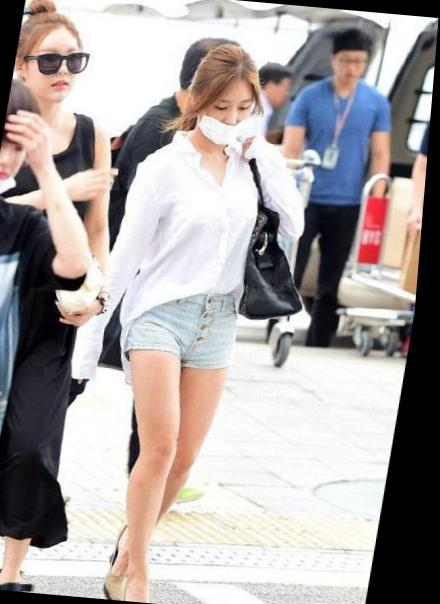NONE: (30, 42, 86, 103), (335, 50, 370, 86)
WRONG: (198, 90, 257, 146), (1, 144, 31, 207)
